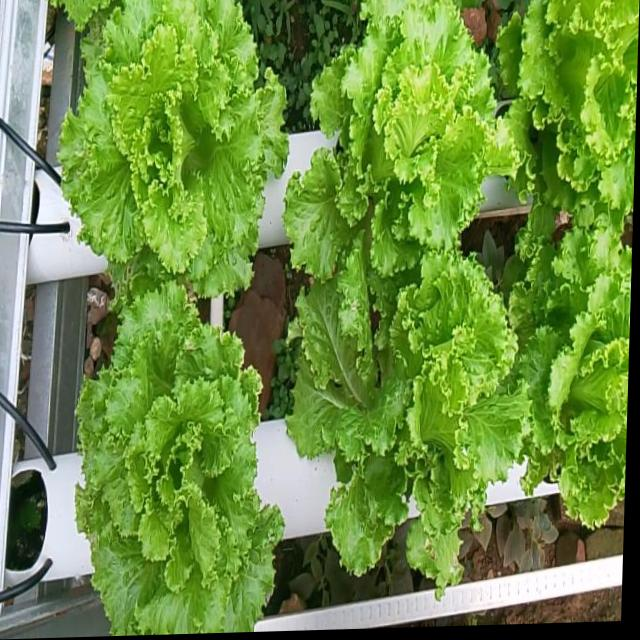Mature: (290, 261, 532, 598), (80, 287, 288, 635), (60, 0, 294, 305), (289, 0, 512, 309), (516, 239, 632, 541), (503, 0, 639, 241)
